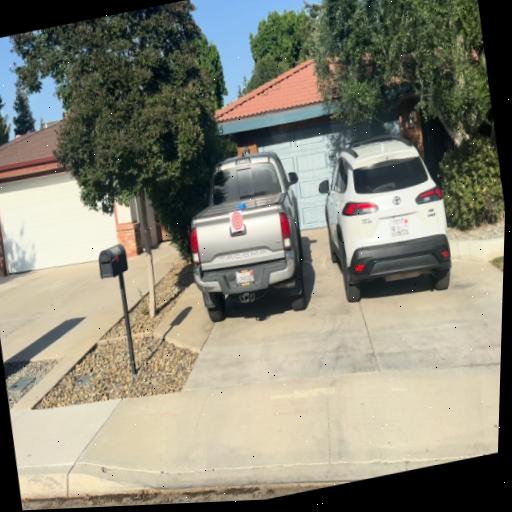bullseye: (230, 209, 244, 232)
